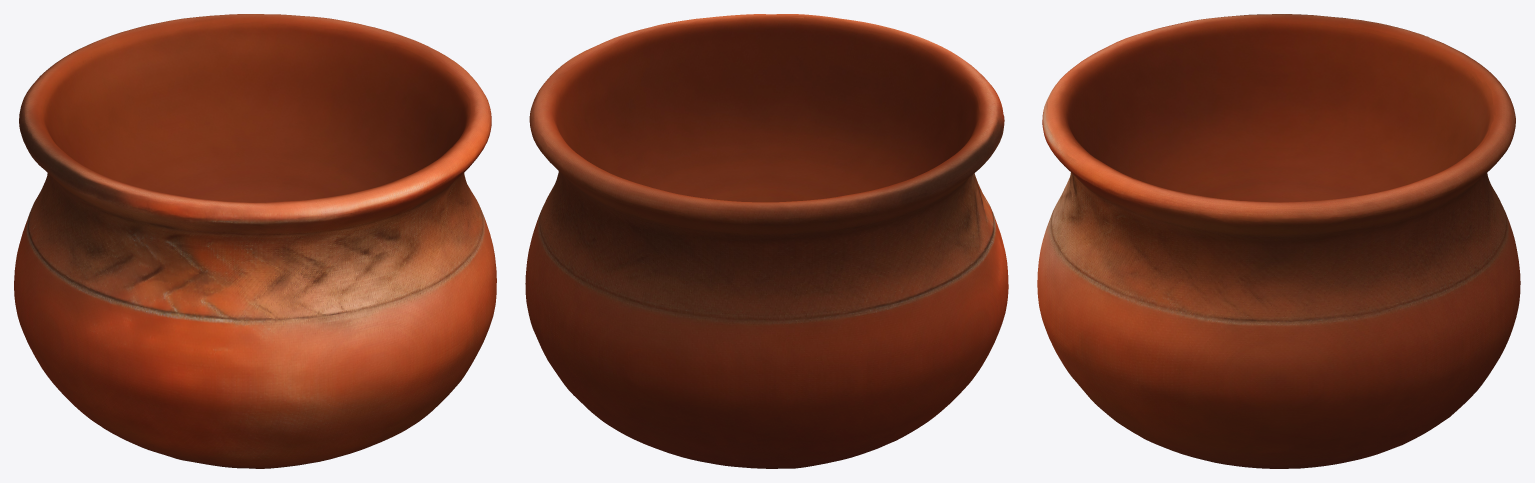
File: bowl2.glb
3 views of the same model, side by side, from view 1: azimuth 30°, elevation 25°; view 2: azimuth 150°, elevation 25°; view 3: azimuth 270°, elevation 25° (orthographic).
Parts seen in each view (by area): view 1: Mesh; view 2: Mesh; view 3: Mesh.
Part boxes in pixels (x1,y1,x2,y2): Mesh: (14,14,496,468); Mesh: (525,14,1008,468); Mesh: (1037,14,1520,468).
Size of the model in its own units: 0.319 by 0.2354 by 0.3185.
Materials: 1 (1 with a texture image).
